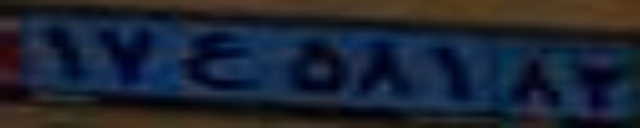1: (429, 42, 472, 99), (44, 26, 85, 82)
2: (571, 60, 630, 111)
5: (285, 39, 350, 94)
7: (96, 27, 160, 86)
8: (353, 42, 413, 97), (502, 58, 562, 107)
ain: (179, 31, 257, 91)
